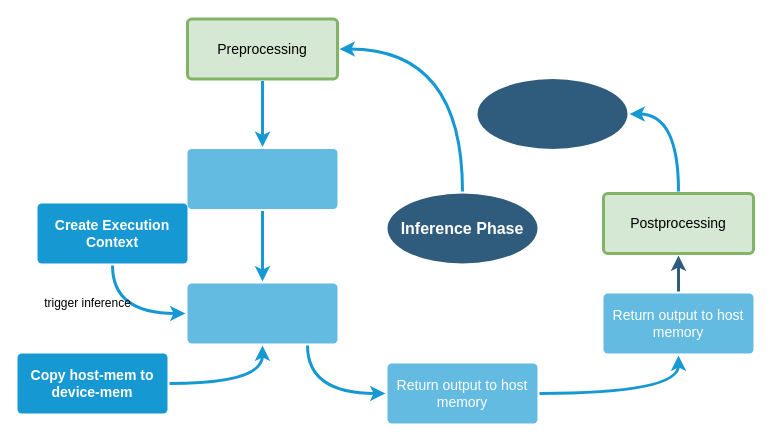
This 772x440 diagram has some shape labels left out. The shapes that lost their labels are listed below. From the top down, each one's centre as x and y in pixels, then its label:
At point 552,113: "Done".
At point 262,178: "Get input from device memory and do feed forward of the model".
At point 262,313: "Feed forward model".
